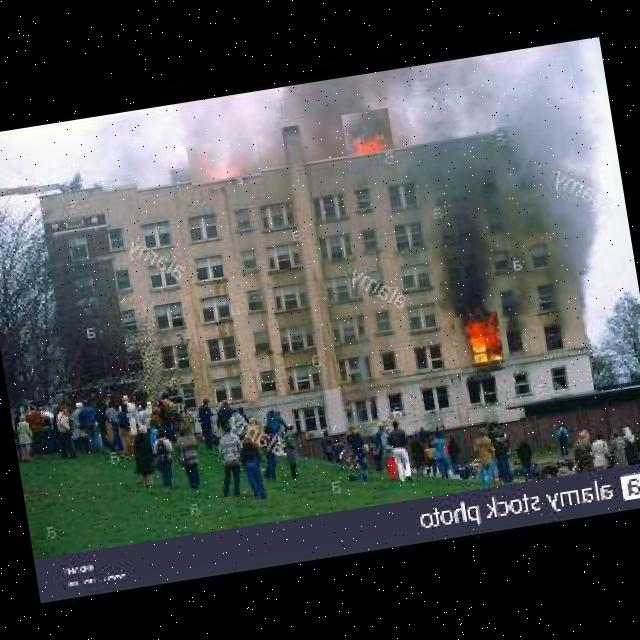fire: (186, 136, 262, 191), (342, 108, 396, 172), (453, 312, 506, 376)
